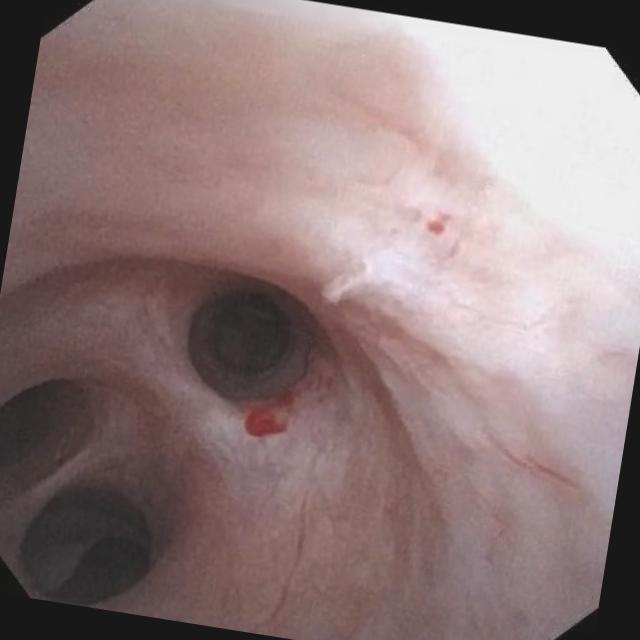stone-new: (50, 537, 150, 605)
